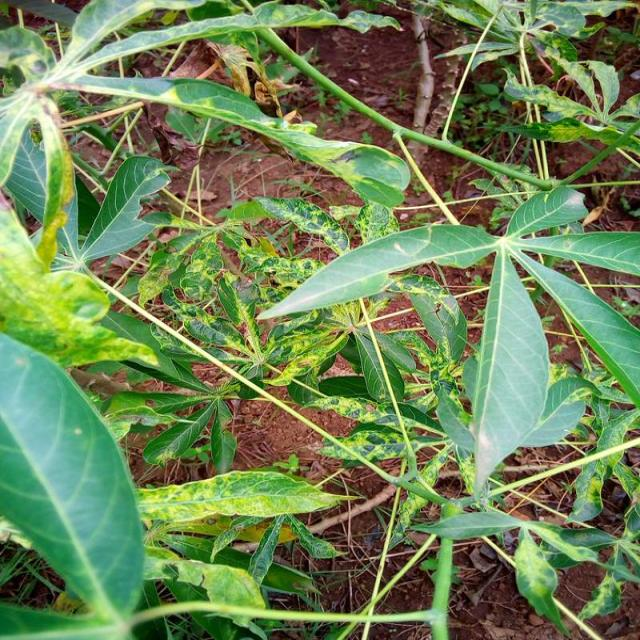cassava leaf: (256, 184, 638, 501), (0, 329, 146, 628), (470, 243, 550, 499)
